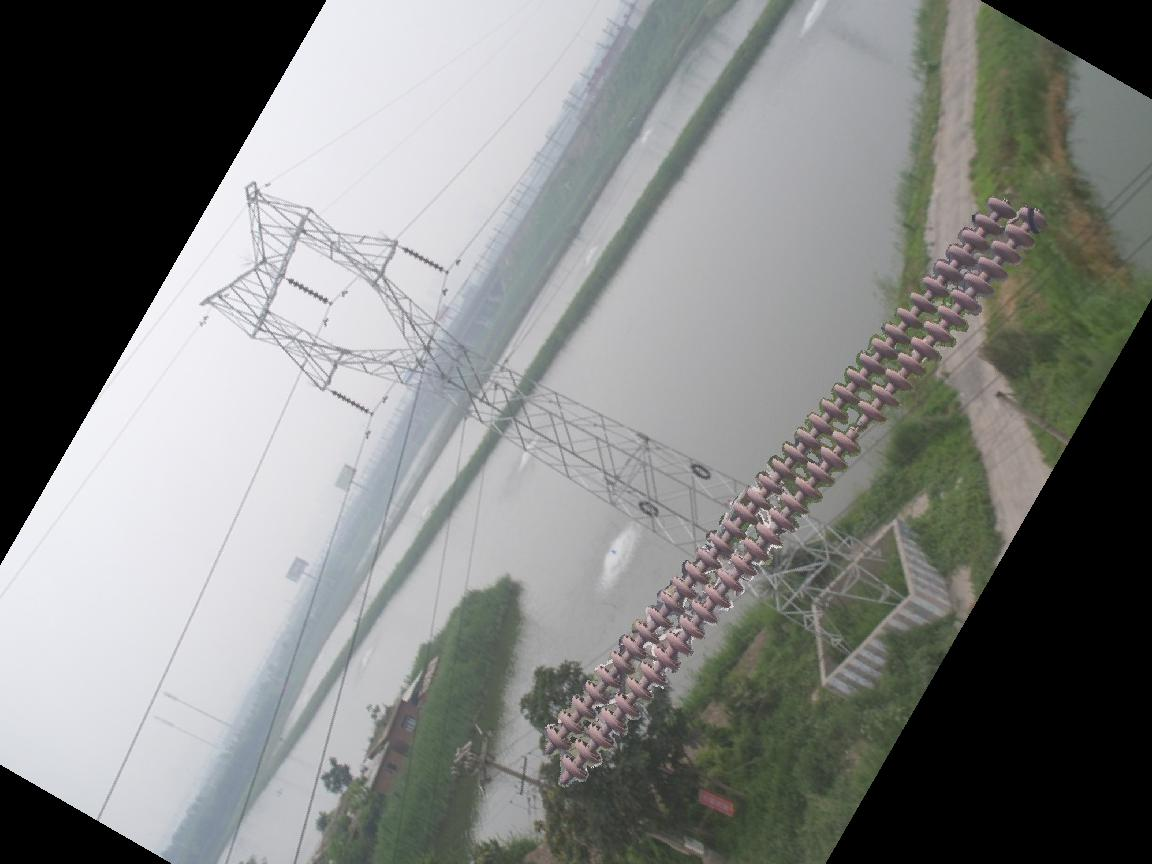insulator: (539, 190, 1051, 788), (399, 243, 446, 276), (282, 274, 330, 304), (328, 387, 369, 415)
insulator_stringdrop: (829, 396, 888, 459)
